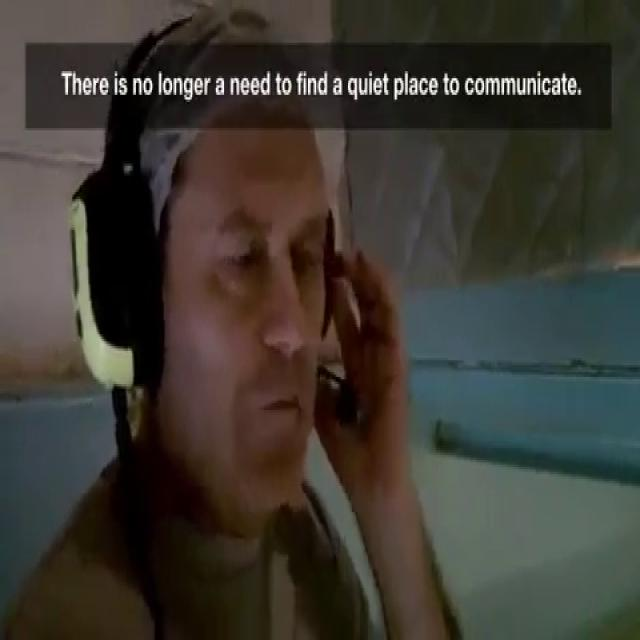earmuff: (68, 158, 163, 394)
glasses: (166, 180, 326, 362)
